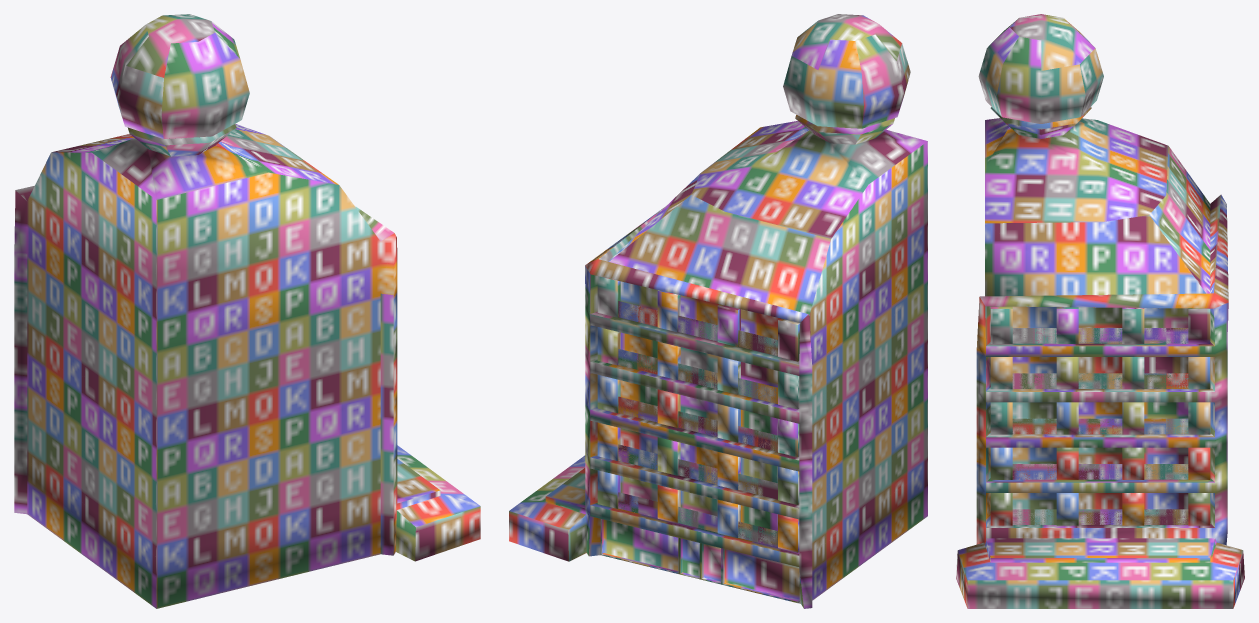
File: corner_building_04.obj
The picture shows the model from 3 angles, left to right: view 1: azimuth 30°, elevation 25°; view 2: azimuth 150°, elevation 25°; view 3: azimuth 270°, elevation 25°; orthographic projection. The views are drawn at different scales.
Parts seen in each view (by area): view 1: Cube1; view 2: Cube1; view 3: Cube1.
Boxes of the visible parts, left/top/right/bottom form: Cube1: left=14, top=14, right=480, bottom=608; Cube1: left=509, top=14, right=927, bottom=608; Cube1: left=956, top=14, right=1244, bottom=608.
Bounding box in the file's own units: 28.03 × 45.86 × 25.01.
Materials: 1 (1 with a texture image).
